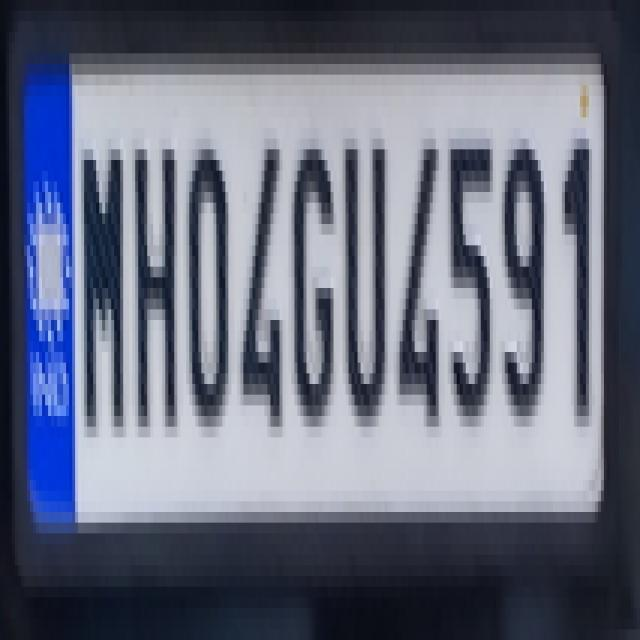0: (186, 136, 234, 458)
1: (556, 120, 602, 437)
4: (392, 127, 443, 446), (240, 121, 288, 442)
5: (446, 112, 494, 440), (400, 130, 400, 152)
9: (503, 126, 549, 417)
G: (291, 146, 340, 427)
H: (130, 126, 183, 450)
M: (76, 123, 128, 437)
U: (340, 125, 390, 444)
